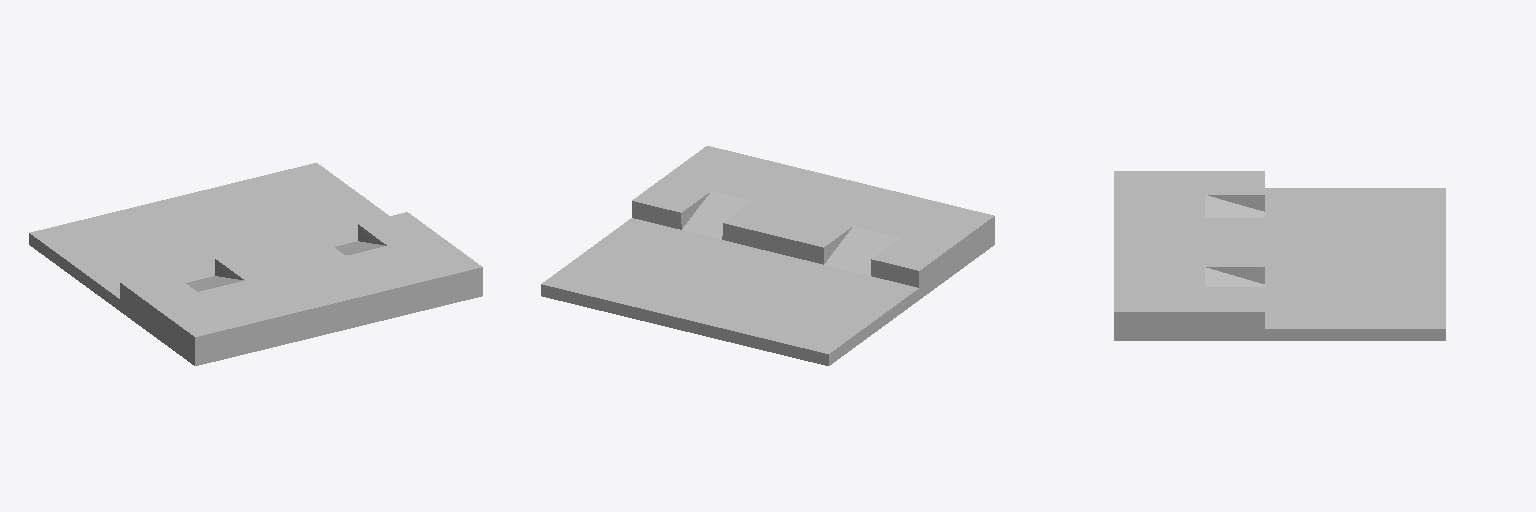
Rendered from 25x25DoubleRampPlatformRooftop.obj.
3 renders of one model, left to right at view 1: azimuth 30°, elevation 25°; view 2: azimuth 150°, elevation 25°; view 3: azimuth 270°, elevation 25°, orthographic.
Parts seen in each view (by area): view 1: pCube15; view 2: pCube15; view 3: pCube15.
Boxes of the visible parts, <box> form: pCube15: <box>29,163,482,365</box>; pCube15: <box>541,146,994,365</box>; pCube15: <box>1114,171,1445,340</box>.
Bounding box in the file's own units: 25 × 2.42 × 25.